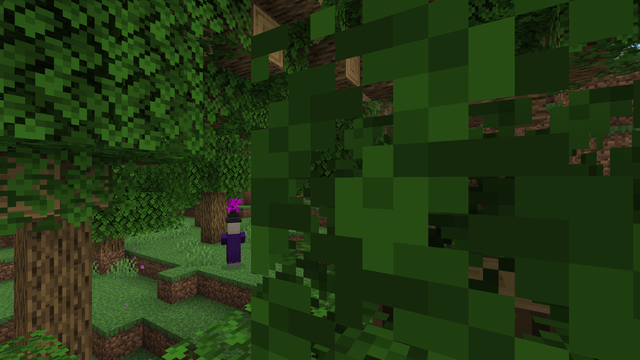sorcieres: (222, 218, 243, 269)
